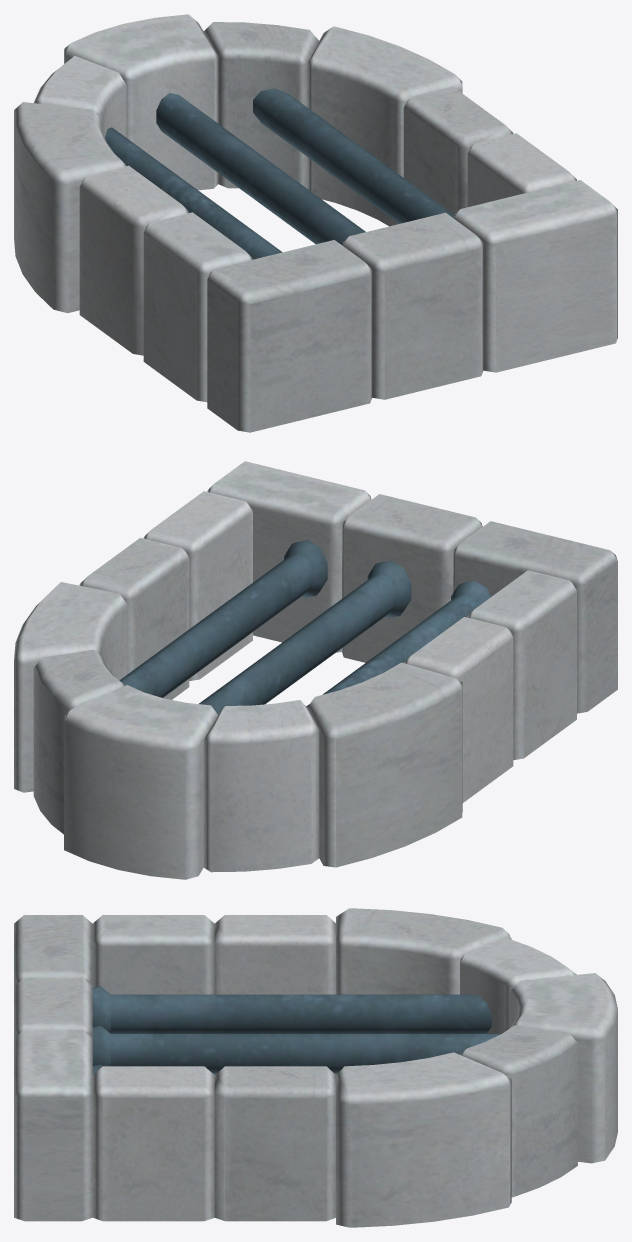
Rendered from CastleWindow.FBX.
3 renders of one model, top to bottom at view 1: azimuth 30°, elevation 25°; view 2: azimuth 150°, elevation 25°; view 3: azimuth 270°, elevation 25°, orthographic. The views are drawn at different scales.
Visible parts, largest first — view 1: pCube1050__Stone_00; view 2: pCube1050__Stone_00; view 3: pCube1050__Stone_00.
Part boxes in pixels (x1,y1,x2,y2): pCube1050__Stone_00: (14, 14, 617, 432); pCube1050__Stone_00: (14, 461, 617, 879); pCube1050__Stone_00: (14, 908, 617, 1227).
Bounding box in the file's own units: 233 × 75 × 312.
